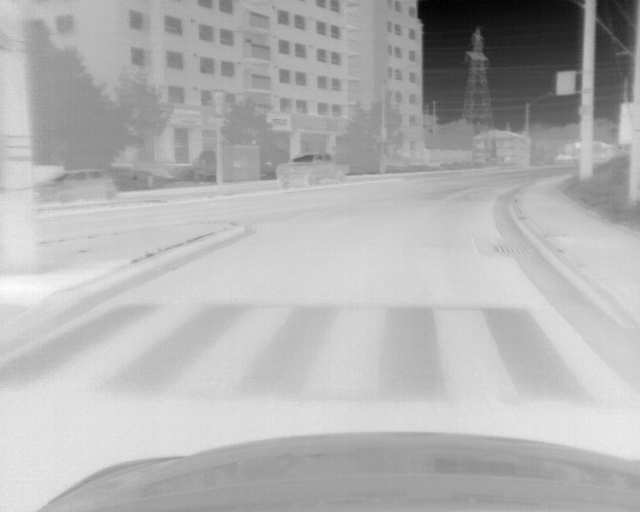car: (27, 167, 117, 202), (275, 152, 349, 189)
